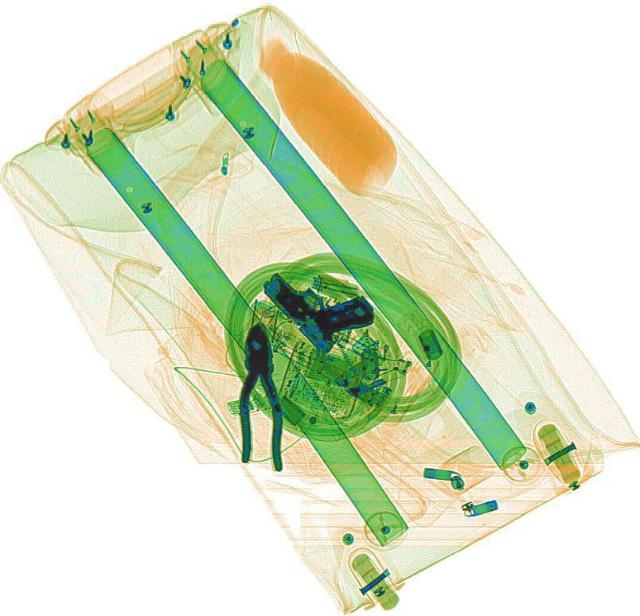Gun: (253, 243, 379, 355)
Pliers: (235, 319, 282, 468)
